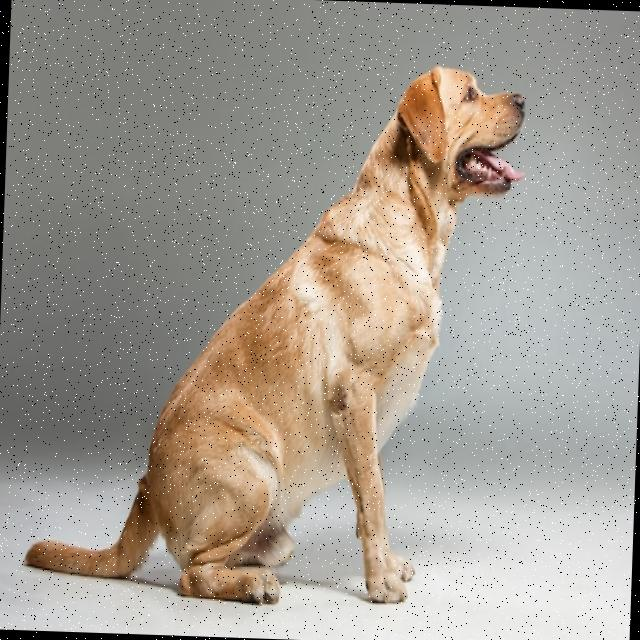Dog: (22, 51, 526, 612)
